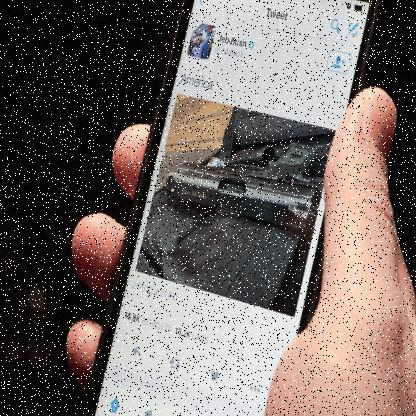pistol: (163, 141, 321, 234)
